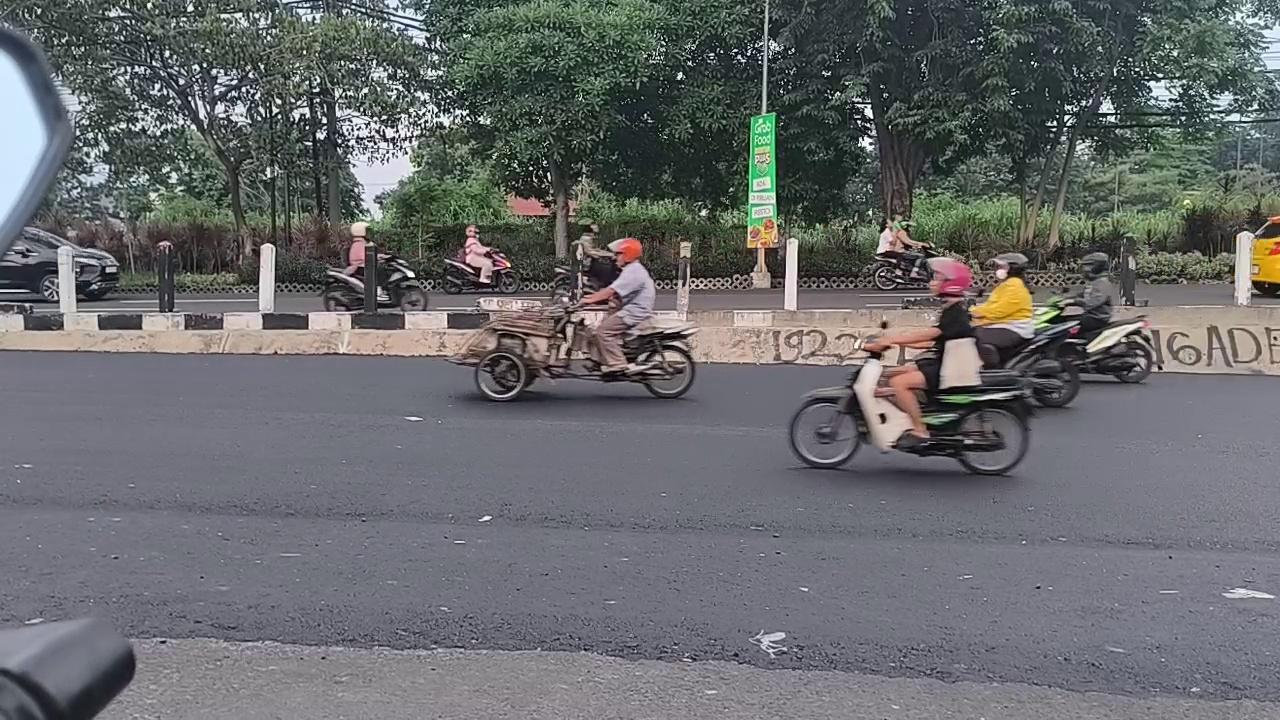Helmet: (864, 257, 973, 448), (582, 238, 655, 373), (970, 253, 1034, 367), (1071, 252, 1112, 336), (454, 215, 499, 279), (336, 216, 383, 274)
Motor: (789, 351, 1033, 474), (450, 305, 696, 401), (982, 320, 1081, 407), (1057, 316, 1159, 383), (442, 249, 520, 294), (550, 255, 619, 303), (378, 254, 426, 311), (870, 256, 926, 290)
